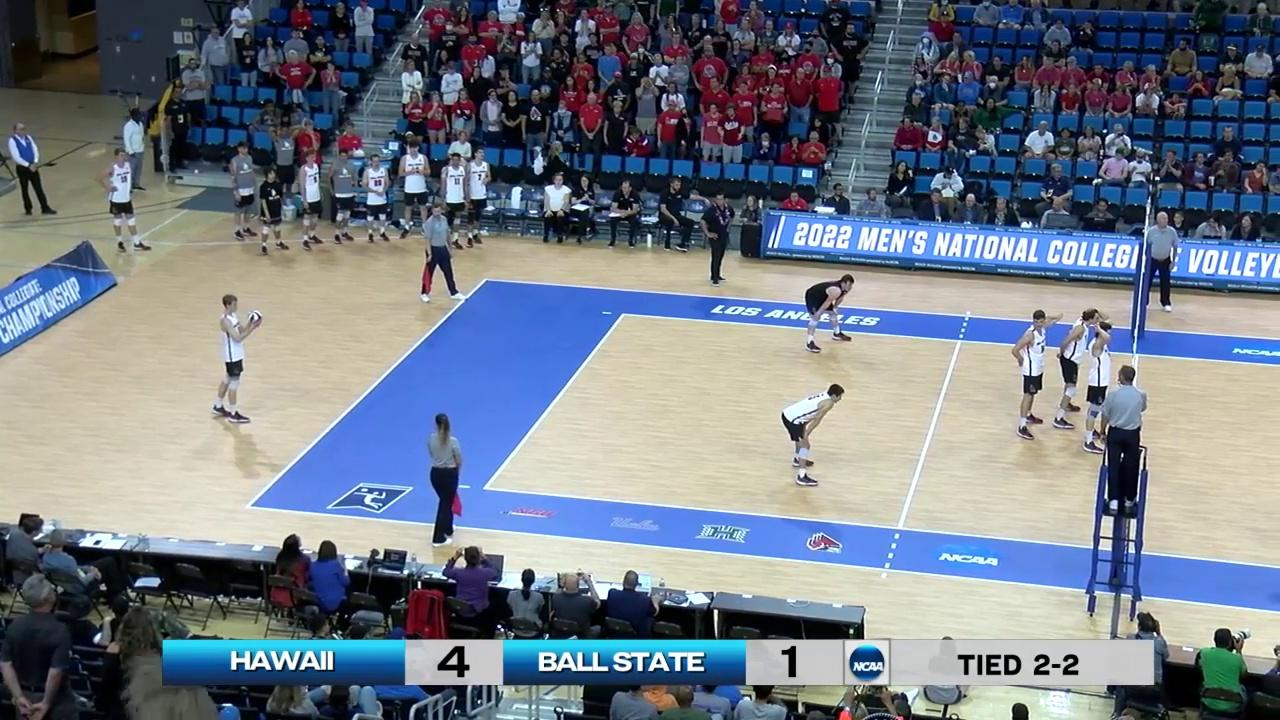player: (781, 384, 844, 483), (213, 297, 260, 422), (1057, 311, 1105, 428), (1008, 309, 1051, 438), (801, 275, 858, 353), (1083, 323, 1115, 454)
refree: (1101, 367, 1148, 511), (425, 418, 463, 543), (421, 206, 460, 303), (1142, 211, 1175, 314)
